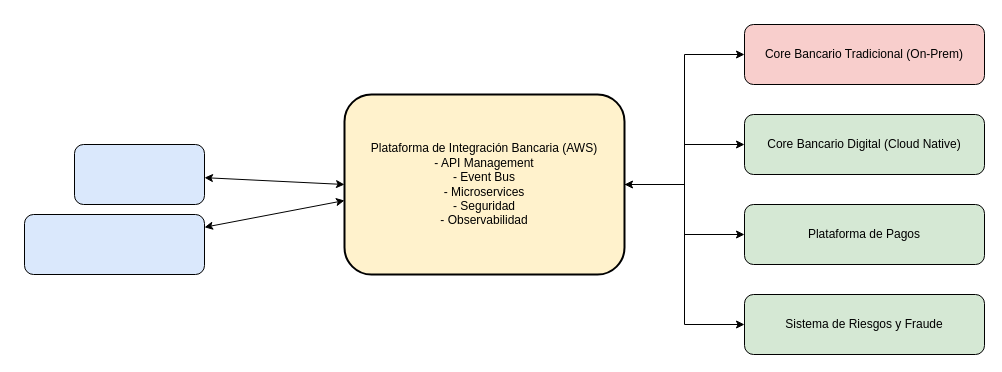
Some shapes in this 1002 by 372 pixel diagram are drawn without their labels. Each missing label, with the centre of its shape:
"Clientes (Web/Mobile)" goes at [139,174].
"Fintechs / Terceros (Open Finance)" goes at [114,244].
